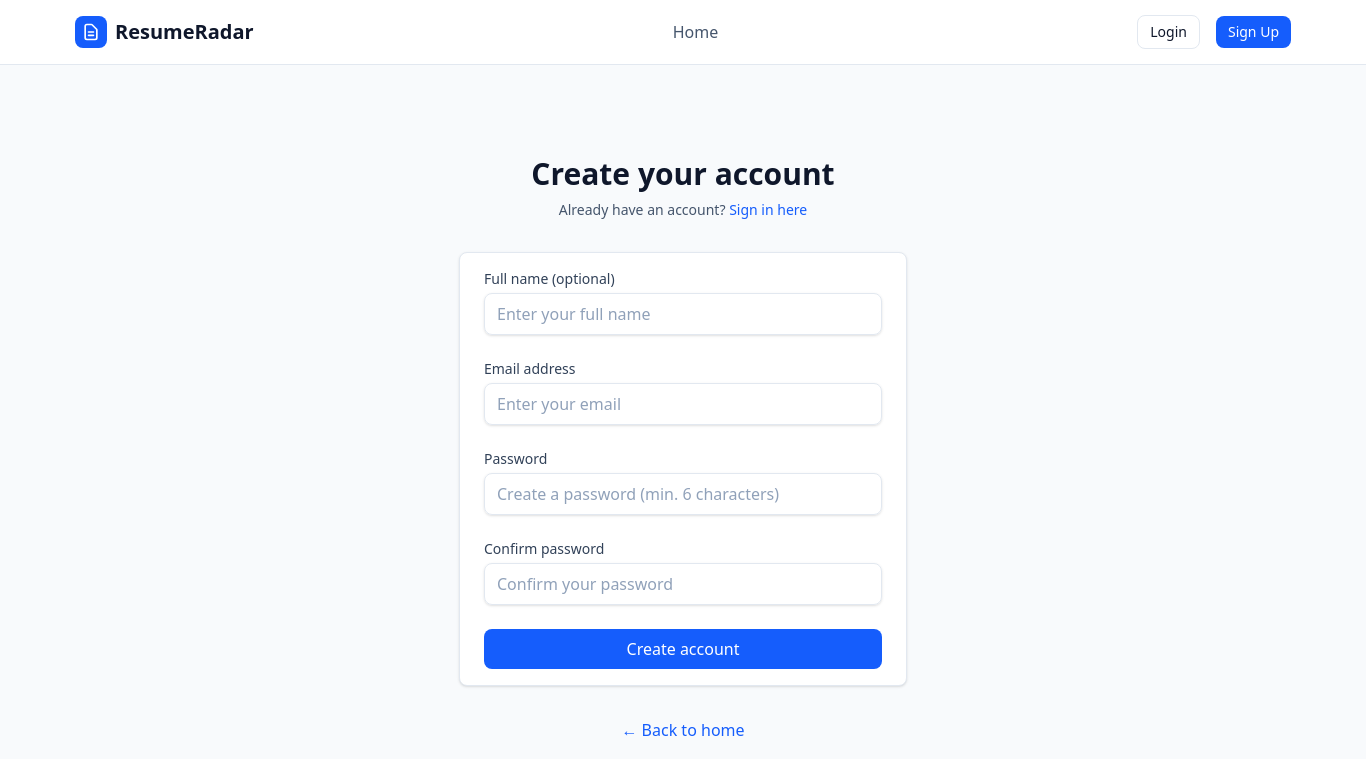
Test: Authentication Flow › Registration › should show error for short password
This screenshot has width=1366, height=759.
In the field with placeholder "Enter your email": (683, 404) [484, 383, 882, 425], type "test@example.com"
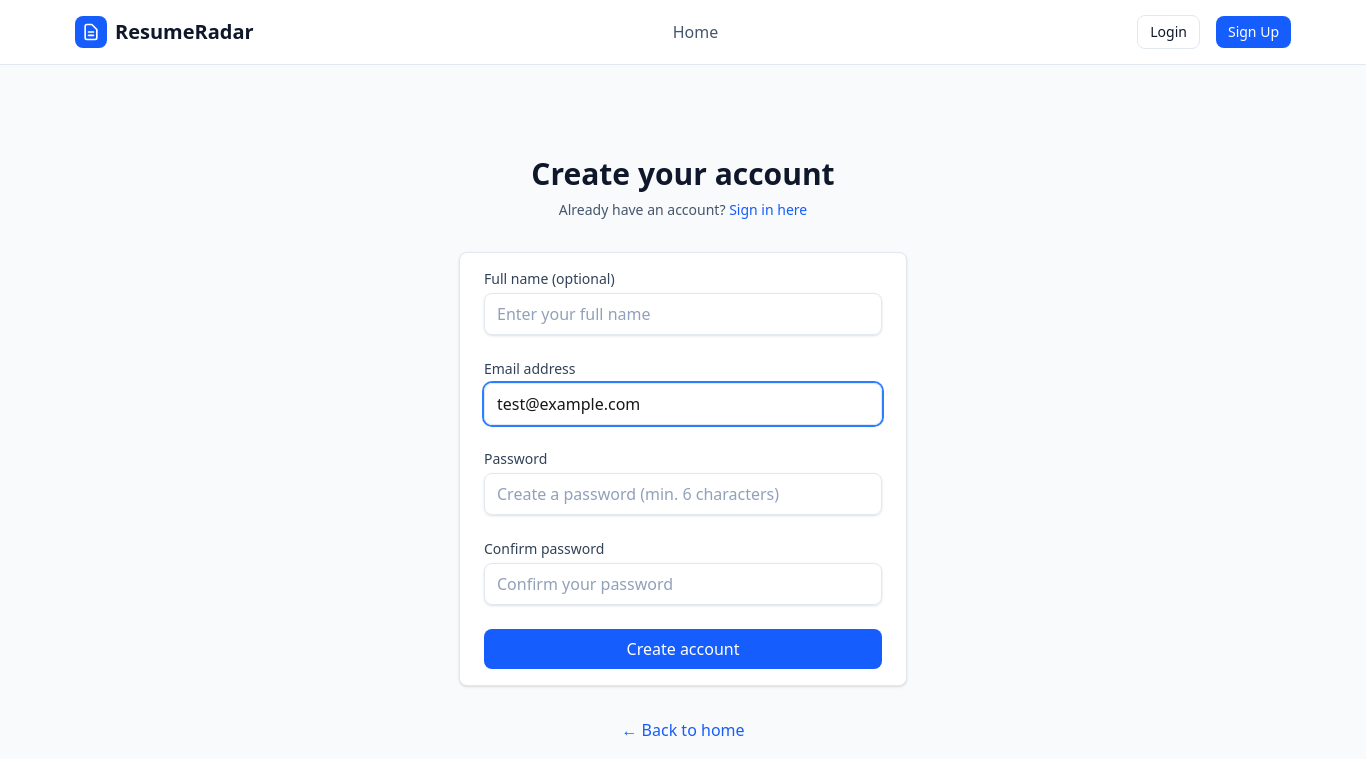
In the password field with placeholder "Create a password (min. 6 characters)": (683, 494) [484, 473, 882, 515], type "123"
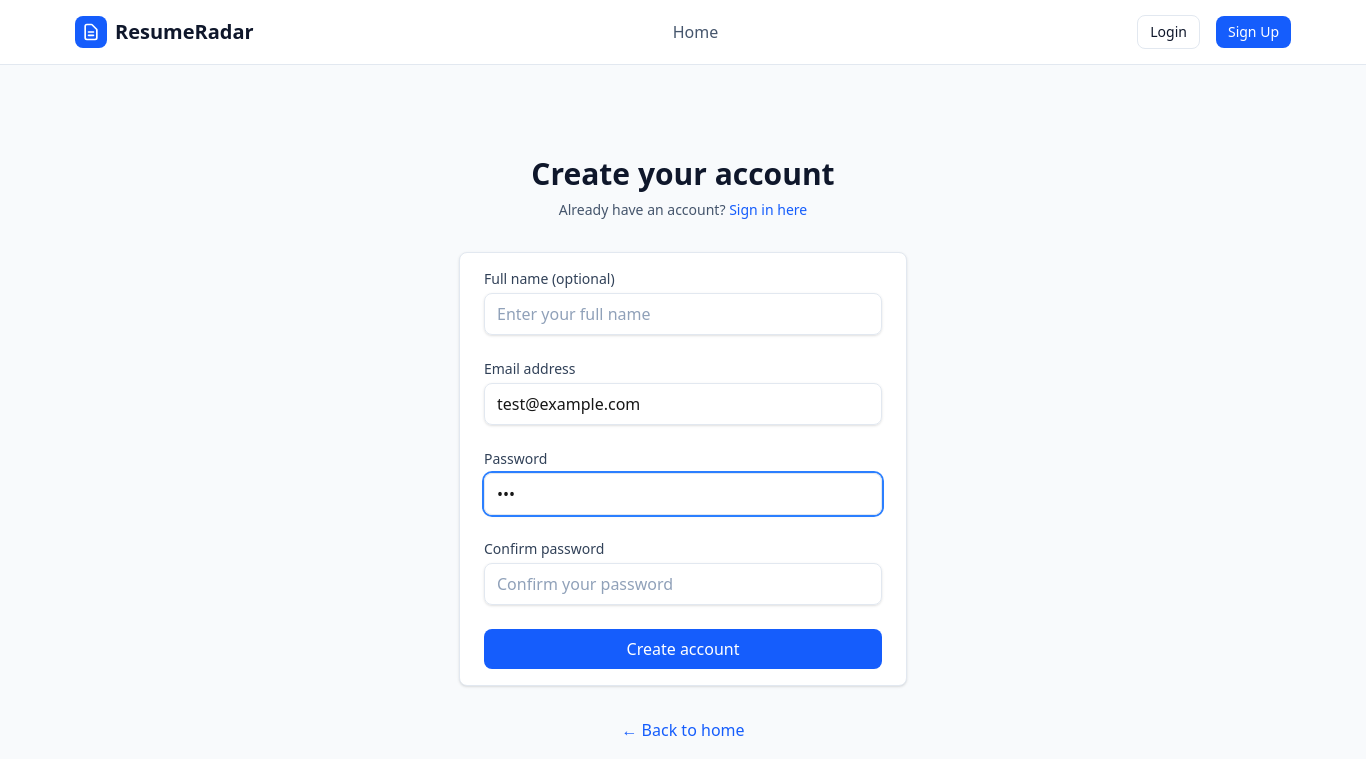
In the password field with placeholder "Confirm your password": (683, 584) [484, 563, 882, 605], type "123"
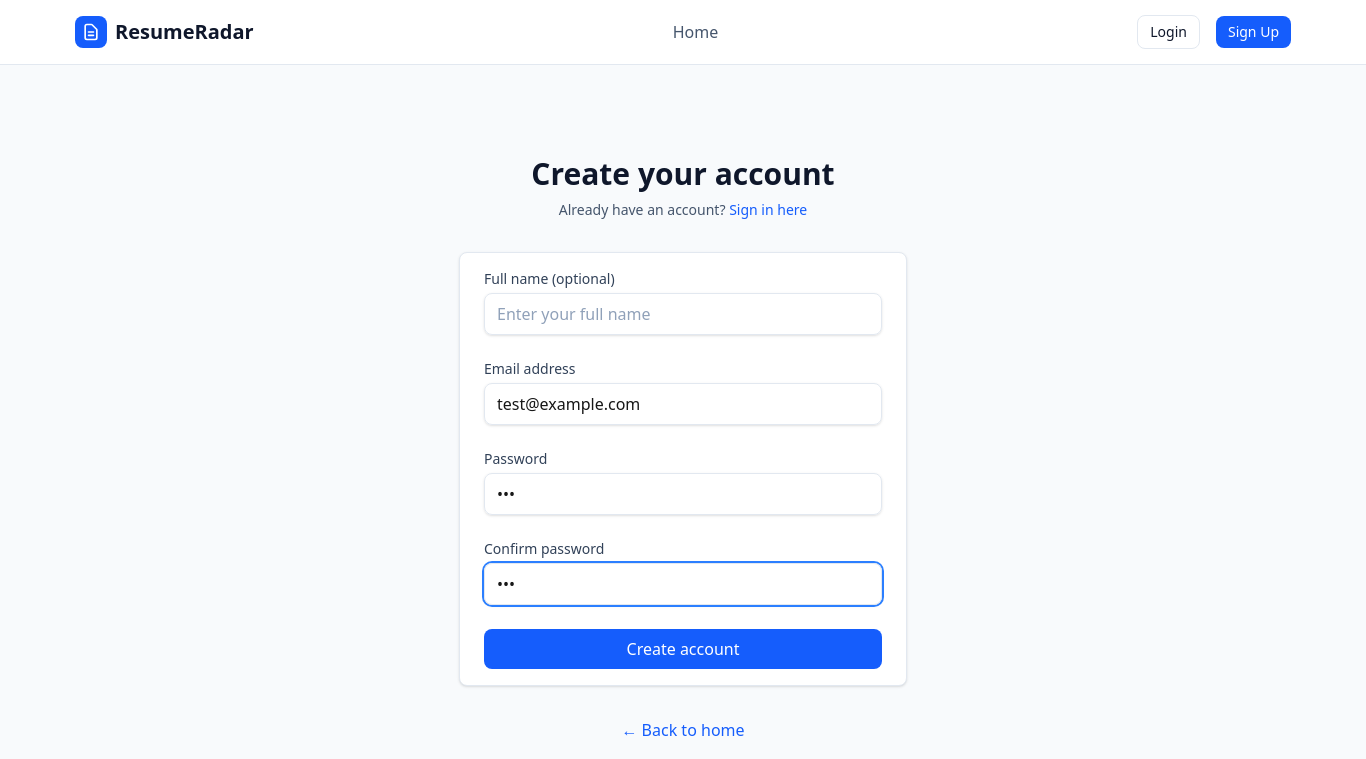
Click the submit button: (683, 649) [484, 629, 882, 669]
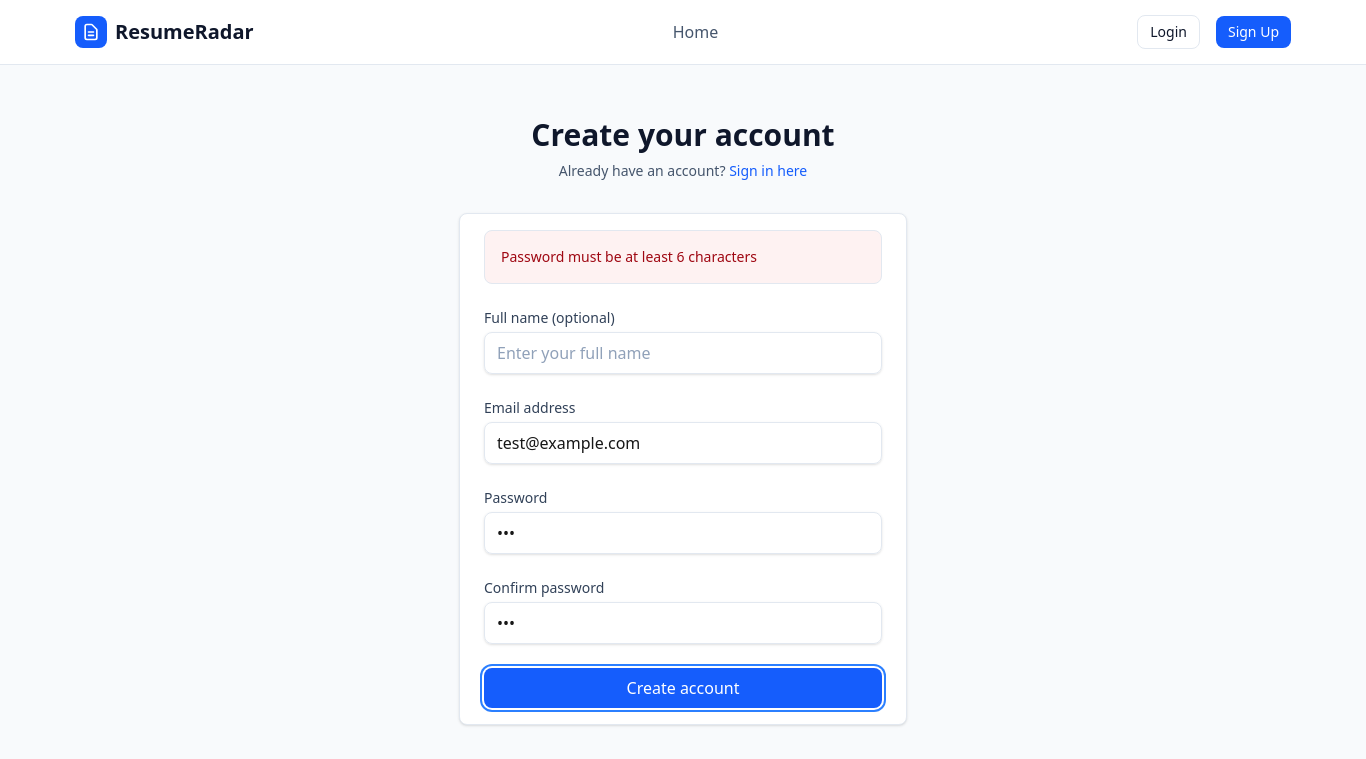
Check: the text "Password must be at least 6 characters" is shown, box [501, 247, 757, 266]
